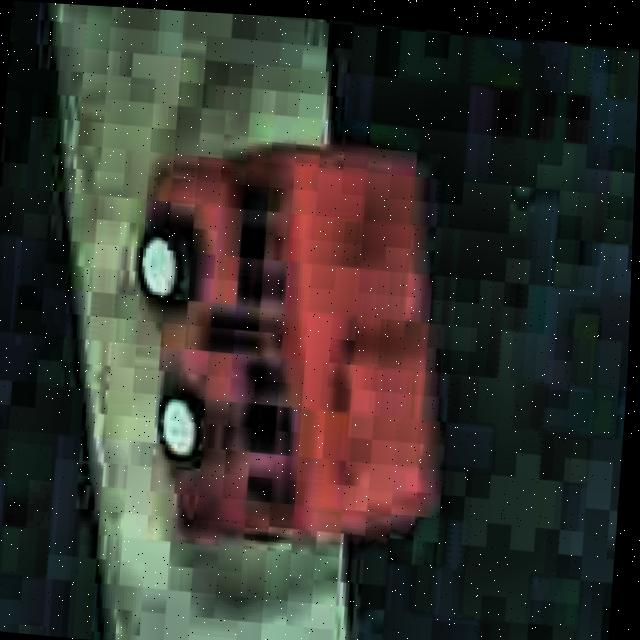bus: (108, 129, 464, 570)
